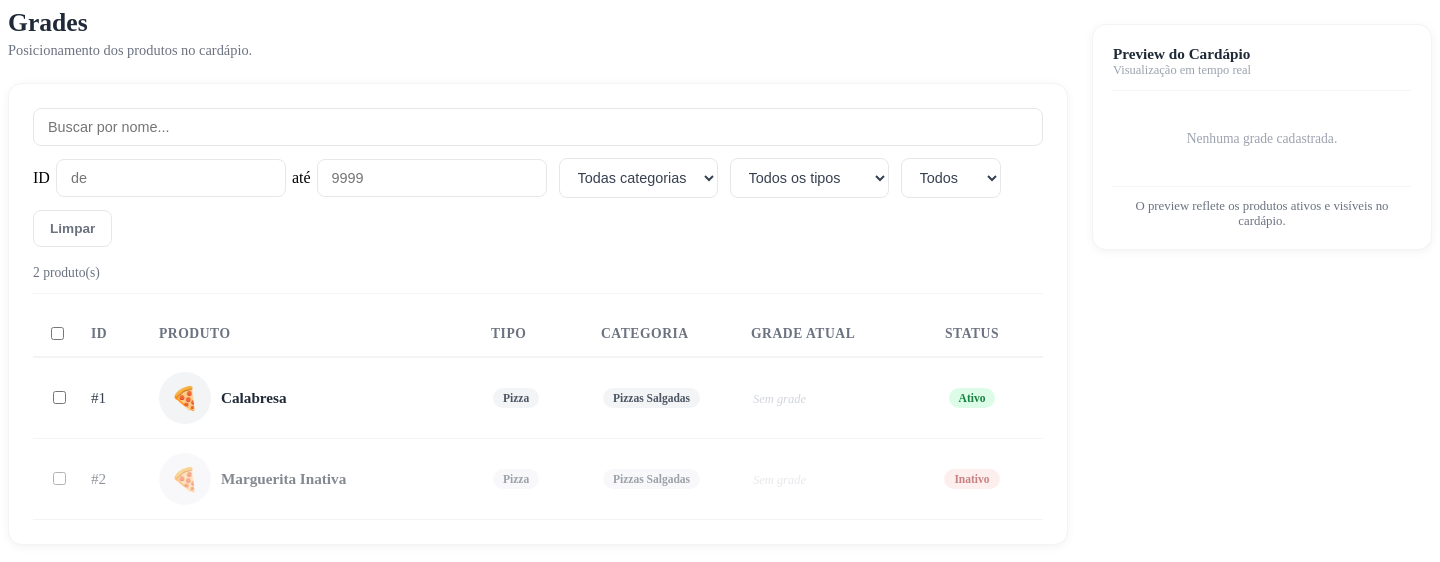
it: AdminGrades › filtro por status ativo/inativo funciona
This screenshot has width=1440, height=562.
Expected: the text "Calabresa" is shown, [221,389,286,406]
Select "Inativos" in the 3rd dropdown at (950, 178), box [900,158,1000,198]
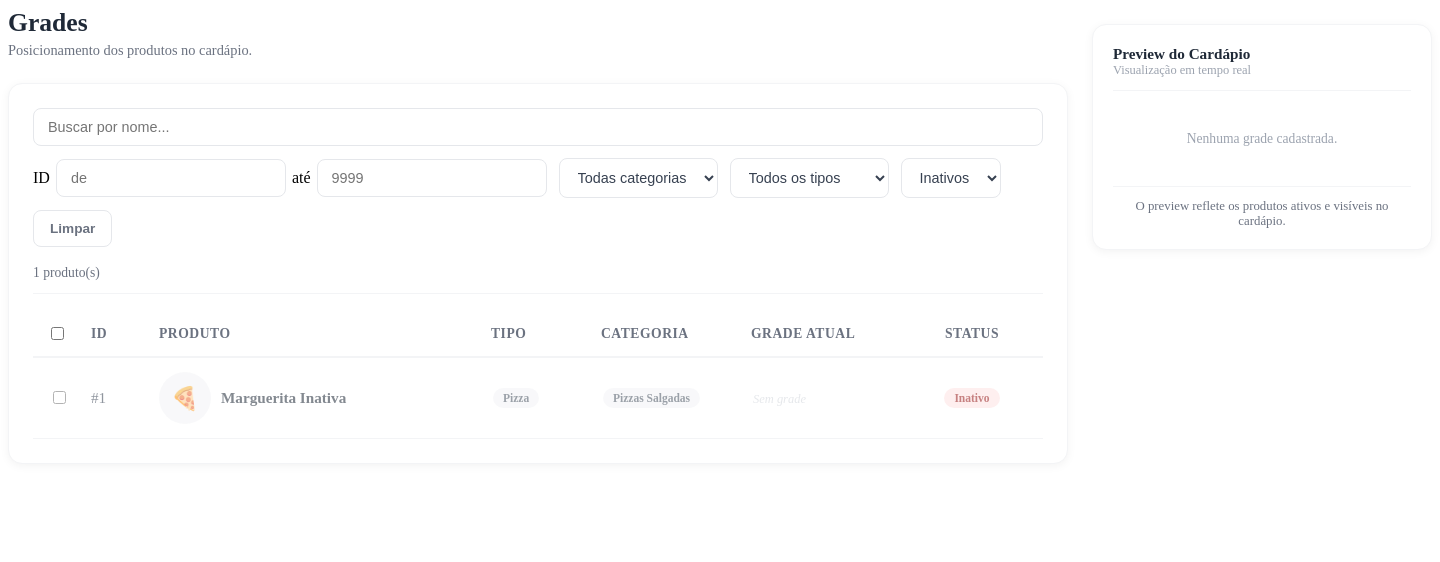
Expected: the text "Marguerita Inativa" is shown, [221,389,346,406]
Result: the text "Calabresa" is gone
